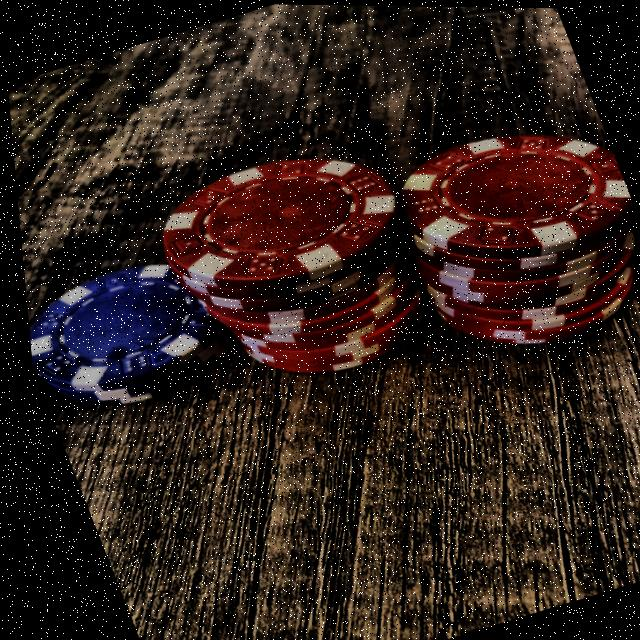Chip: (107, 100, 458, 431), (352, 65, 640, 392), (16, 222, 242, 442)
